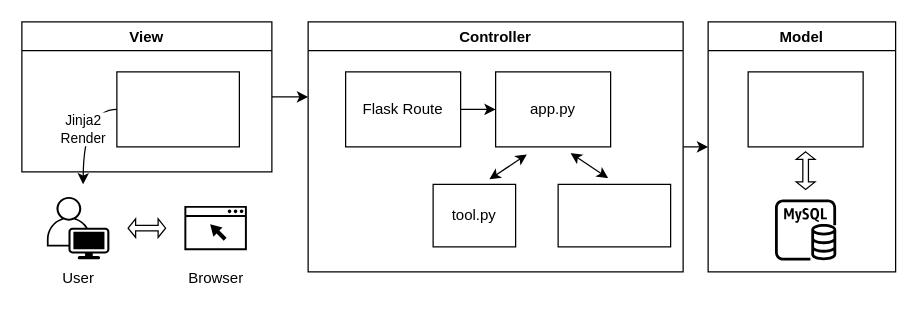
Image size: 918x319. Some labels were removed from this diagram. The shapes that lost their labels are listed below. From the top down, each one's centre as x and y in pixels, then its label:
At (177,109): "templates".
At (805,109): "models.py".
At (614,215): "permission.py".
